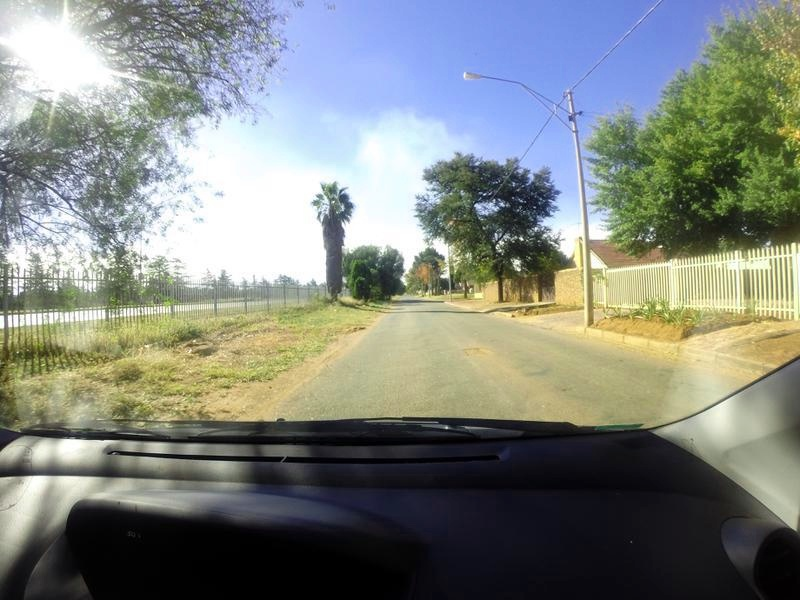pothole: (459, 339, 494, 372)
